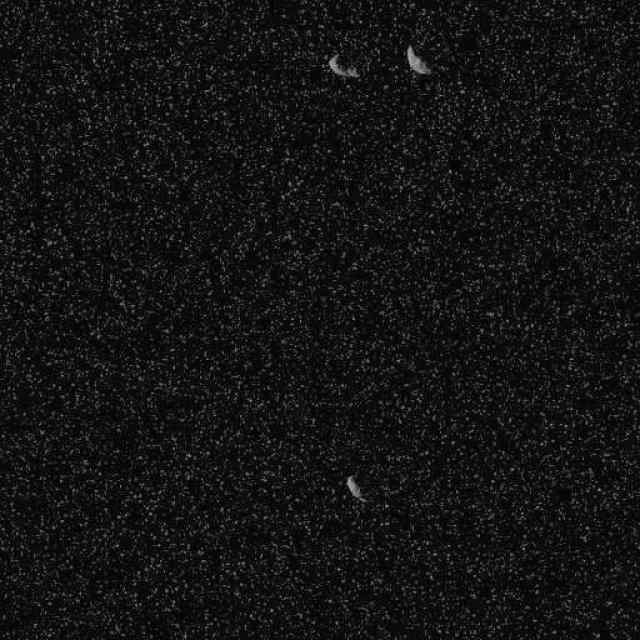D2: (405, 42, 433, 76), (326, 52, 359, 78), (344, 473, 366, 502)
